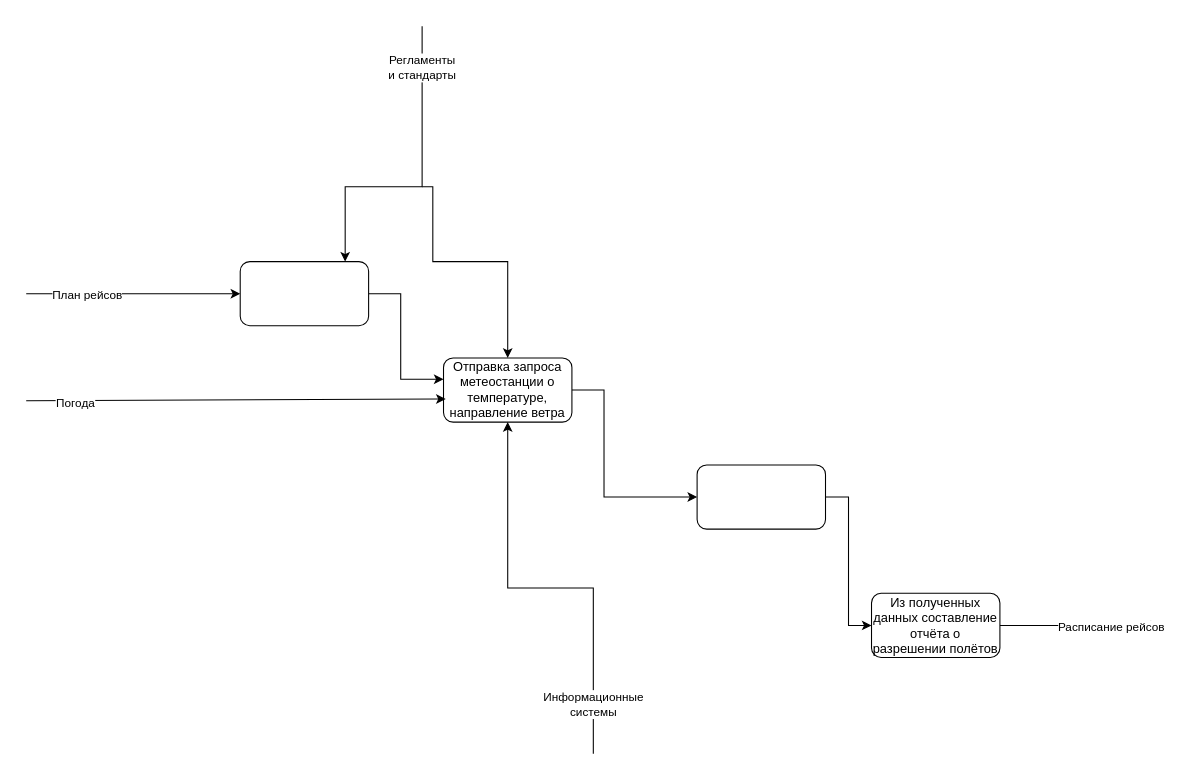
The diagram is 1188 pixels wide and 781 high, and some of its shapes have lost their labels. The shapes that lost their labels are listed below. From the top down, each one's centre as x and y in pixels, then its label:
(304,293): Получение данных о маршрутах, анализ, составление отчёта
(761,496): Получение данных из метеостанции и составление отчёта
